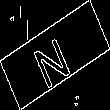N_NW: (32, 23, 78, 87)
